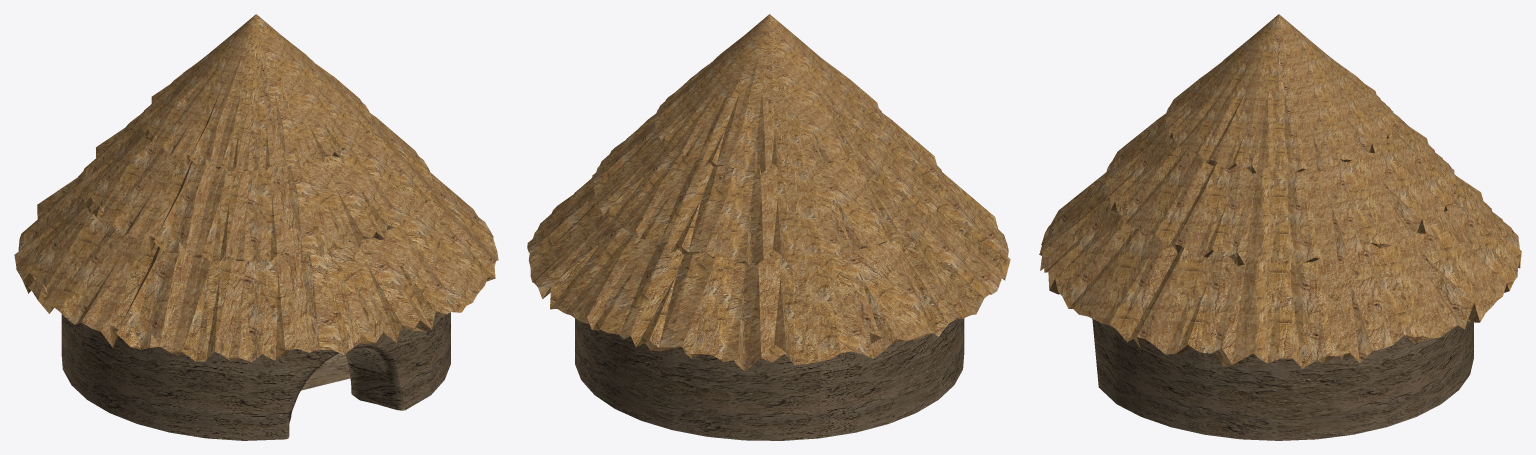
File: hut_with_thatched_pointed_roof.glb
3 views of the same model, side by side, from view 1: azimuth 30°, elevation 25°; view 2: azimuth 150°, elevation 25°; view 3: azimuth 270°, elevation 25° (orthographic).
Parts seen in each view (by area): view 1: Cylinder; view 2: Cylinder; view 3: Cylinder.
Boxes of the visible parts, bbox=[...] form: Cylinder: bbox=[14, 14, 498, 440]; Cylinder: bbox=[527, 14, 1010, 440]; Cylinder: bbox=[1039, 14, 1521, 440].
Size of the model in its own units: 27.94 by 21.89 by 27.78.
Materials: 2 (2 with a texture image).
